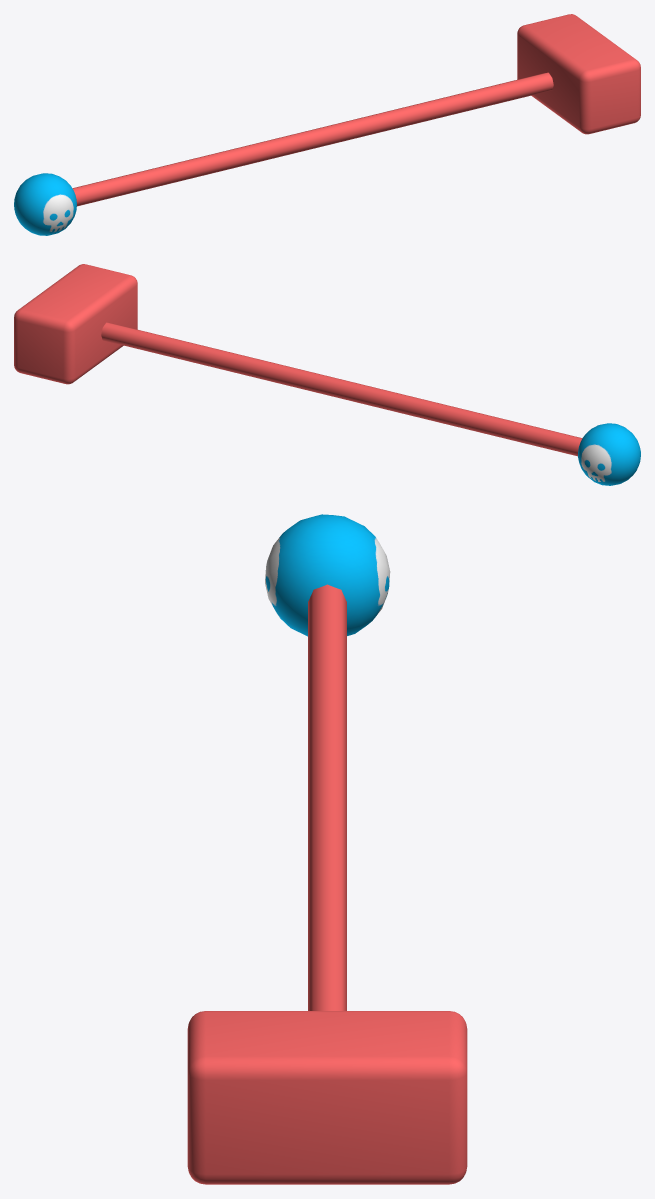
The model's file is hammer_horizontal.FBX.
The picture shows the model from 3 angles, top to bottom: view 1: azimuth 30°, elevation 25°; view 2: azimuth 150°, elevation 25°; view 3: azimuth 270°, elevation 25°; orthographic projection. The views are drawn at different scales.
Visible parts, largest first — view 1: hammer_horizontal; view 2: hammer_horizontal; view 3: hammer_horizontal.
Boxes of the visible parts, box(x1,y1,x2,y2) form: hammer_horizontal: box(14, 14, 640, 235); hammer_horizontal: box(14, 264, 640, 485); hammer_horizontal: box(187, 514, 467, 1184).
Bounding box in the file's own units: 19.54 × 2 × 4.
Materials: 1 (1 with a texture image).
